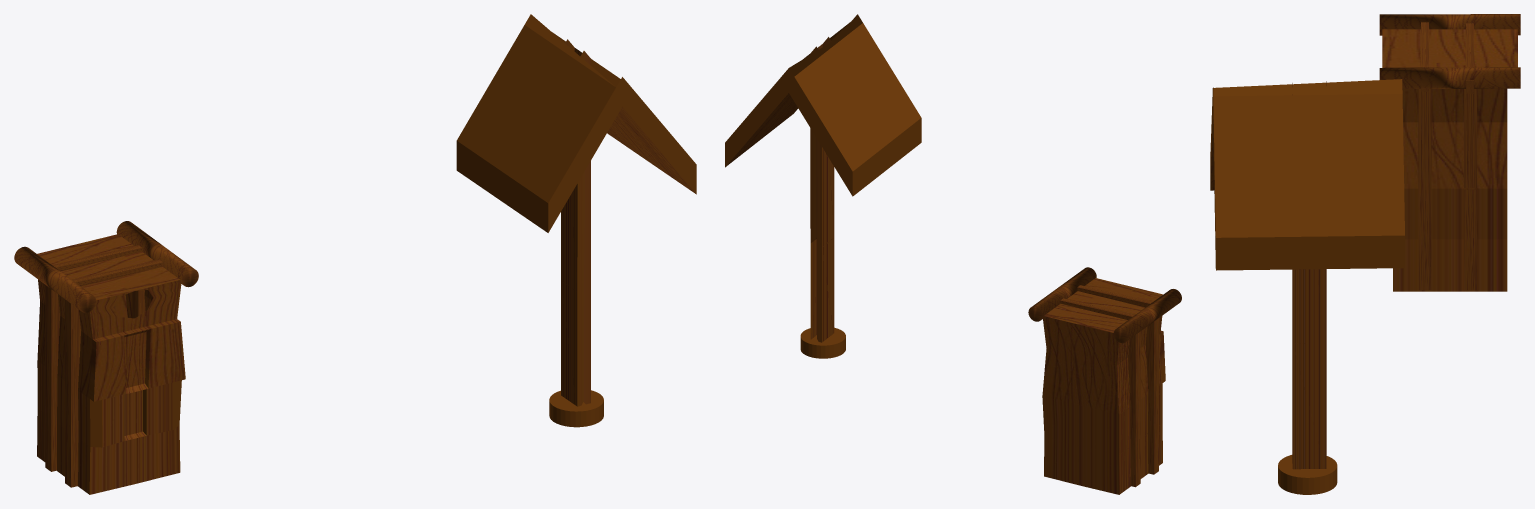
File: batuganan.fbx
3 views of the same model, side by side, from view 1: azimuth 30°, elevation 25°; view 2: azimuth 150°, elevation 25°; view 3: azimuth 270°, elevation 25° (orthographic). The views are drawn at different scales.
Visible parts, largest first — view 1: cage, batoganan; view 2: cage, batoganan; view 3: batoganan, cage.
Part boxes in pixels (left/top/right/bottom): cage: left=14, top=221, right=198, bottom=494; batoganan: left=456, top=14, right=696, bottom=427; cage: left=1028, top=267, right=1181, bottom=494; batoganan: left=725, top=14, right=921, bottom=358; batoganan: left=1210, top=79, right=1404, bottom=494; cage: left=1379, top=14, right=1520, bottom=291.
Size of the model in its own units: 30.98 by 20.23 by 14.15.
